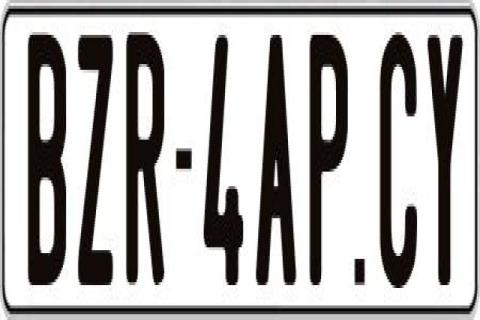0: (202, 35, 246, 294)
A: (255, 35, 298, 299)
B: (25, 35, 68, 291)
C: (378, 35, 417, 297)
P: (310, 26, 348, 294)
R: (125, 32, 168, 300)
Y: (426, 35, 460, 288)
Z: (76, 29, 112, 279)
